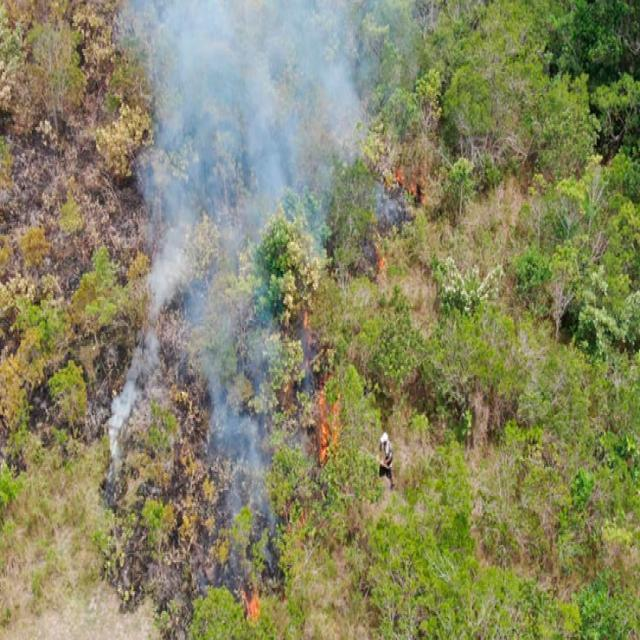Fire: (316, 391, 344, 454), (243, 592, 261, 620)
Smoke: (100, 9, 383, 469), (105, 354, 138, 484)
